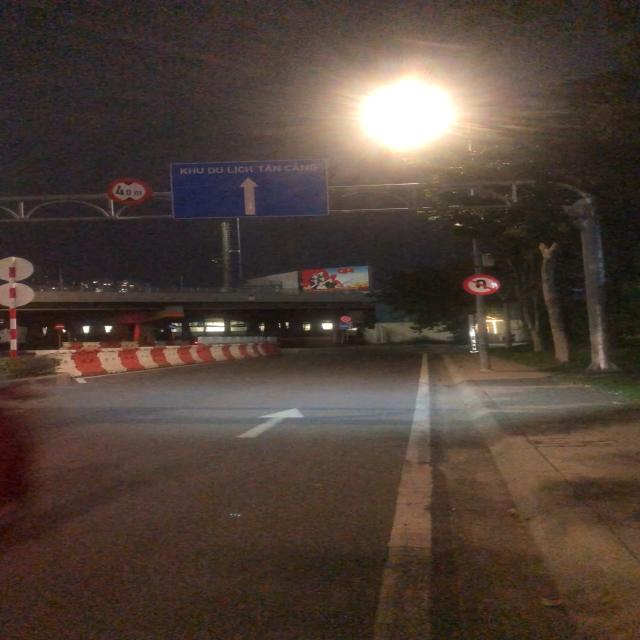Bien bao cam quay dau xe: (462, 271, 504, 297)
Bien bao han che chieu cao: (105, 176, 154, 205)
